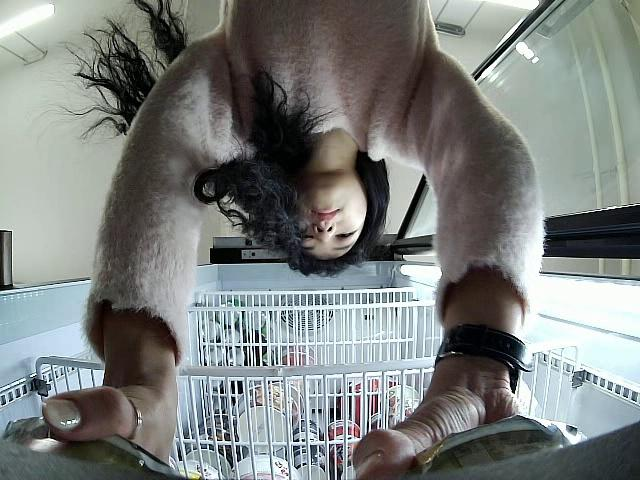00_hand: (350, 399, 528, 480), (41, 378, 178, 463)
03_chapagetti_L: (3, 412, 194, 480), (416, 414, 582, 471)
